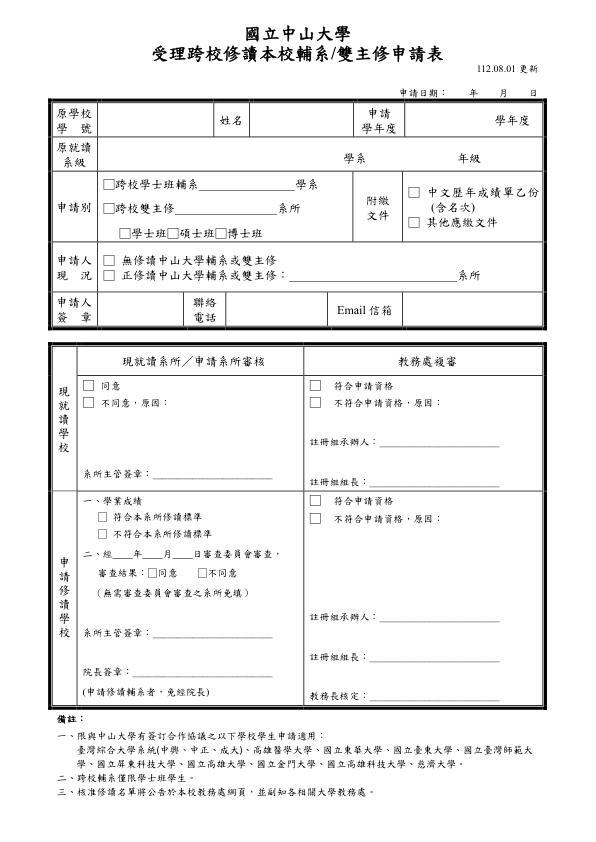table: (43, 340, 552, 712), (45, 96, 554, 333)
text: (53, 730, 535, 803), (148, 22, 452, 64), (396, 83, 540, 98), (472, 60, 542, 74), (55, 712, 86, 725)
